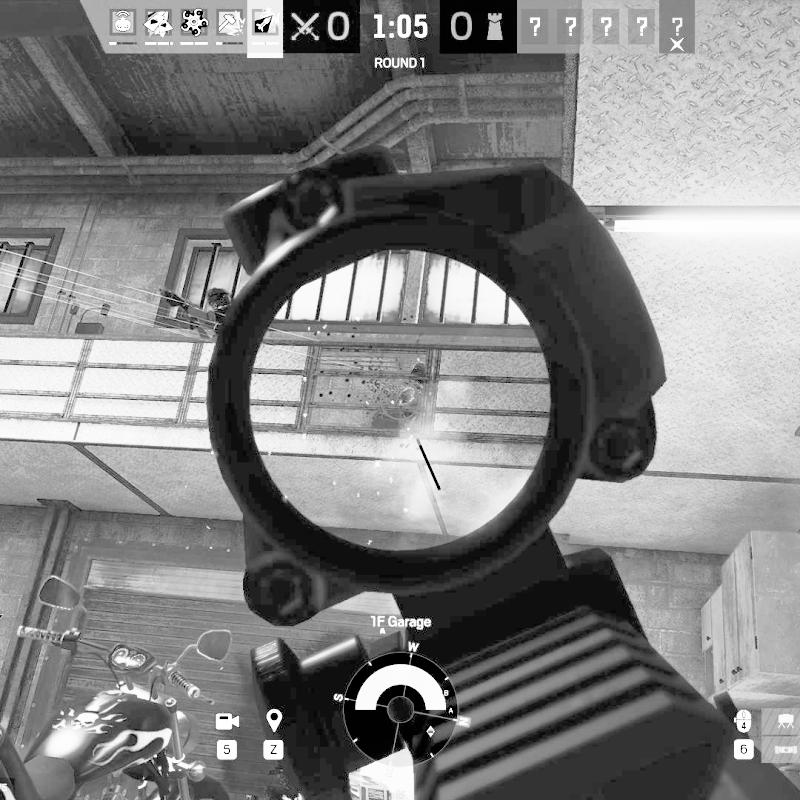Character: (158, 285, 232, 342), (394, 360, 430, 430)
Head: (206, 286, 232, 314), (410, 362, 429, 384)
